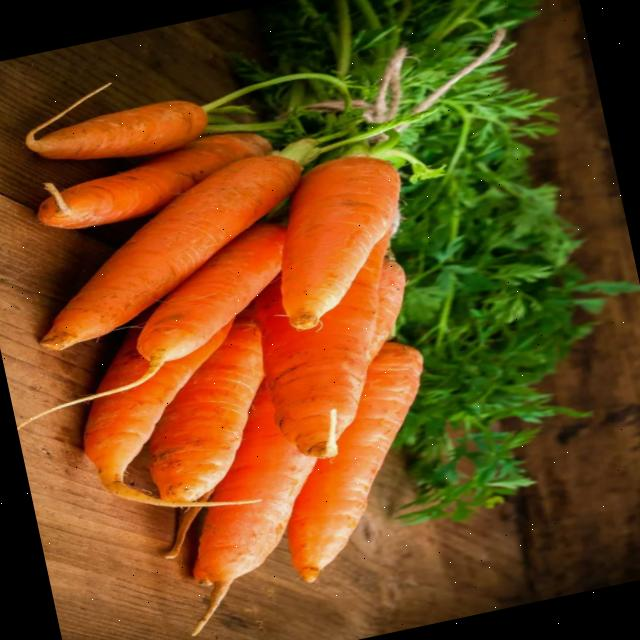carrot: (39, 155, 301, 350), (286, 342, 422, 582), (253, 231, 389, 458), (82, 315, 233, 505), (199, 379, 315, 592), (36, 132, 270, 229), (148, 309, 263, 502), (279, 155, 400, 329), (135, 223, 285, 361), (25, 100, 207, 160)
